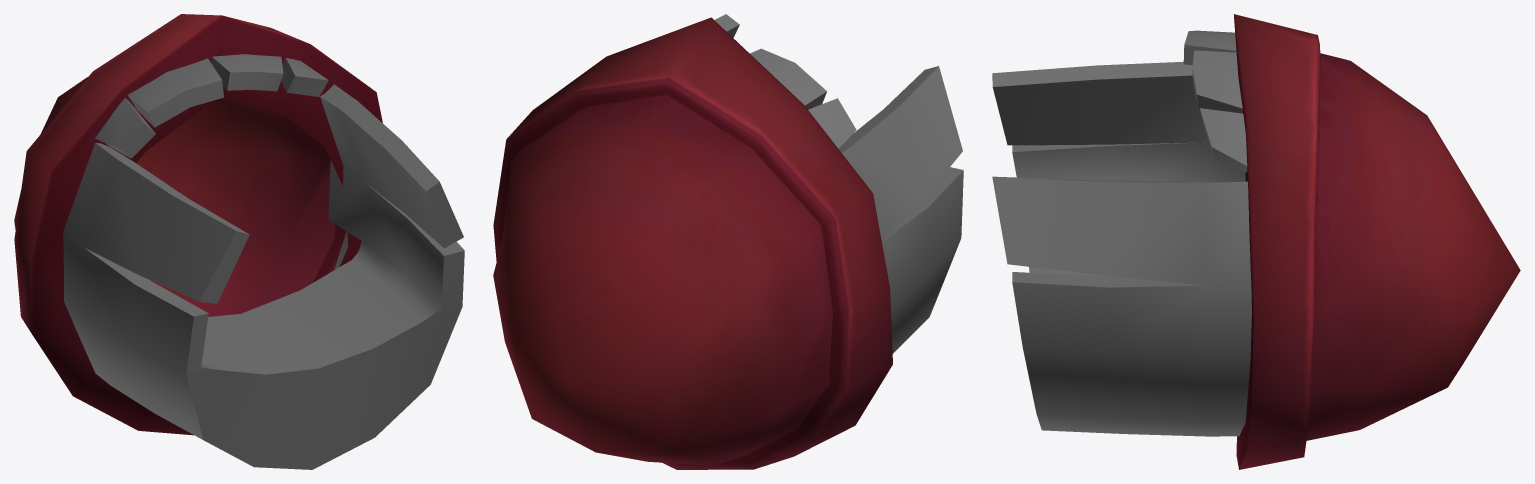
File: Female Hair 04 Hat 01.FBX
3 views of the same model, side by side, from view 1: azimuth 30°, elevation 25°; view 2: azimuth 150°, elevation 25°; view 3: azimuth 270°, elevation 25° (orthographic). The views are drawn at different scales.
Visible parts, largest first — view 1: Female Hair 04 Hat 01, Hat 01; view 2: Hat 01, Female Hair 04 Hat 01; view 3: Female Hair 04 Hat 01, Hat 01.
Boxes of the visible parts, bbox=[...] form: Female Hair 04 Hat 01: bbox=[63, 54, 464, 469]; Hat 01: bbox=[14, 14, 382, 435]; Hat 01: bbox=[493, 17, 892, 469]; Female Hair 04 Hat 01: bbox=[714, 14, 963, 353]; Female Hair 04 Hat 01: bbox=[992, 30, 1251, 436]; Hat 01: bbox=[1233, 14, 1520, 469].
Size of the model in its own units: 85.89 by 104 by 95.39.
